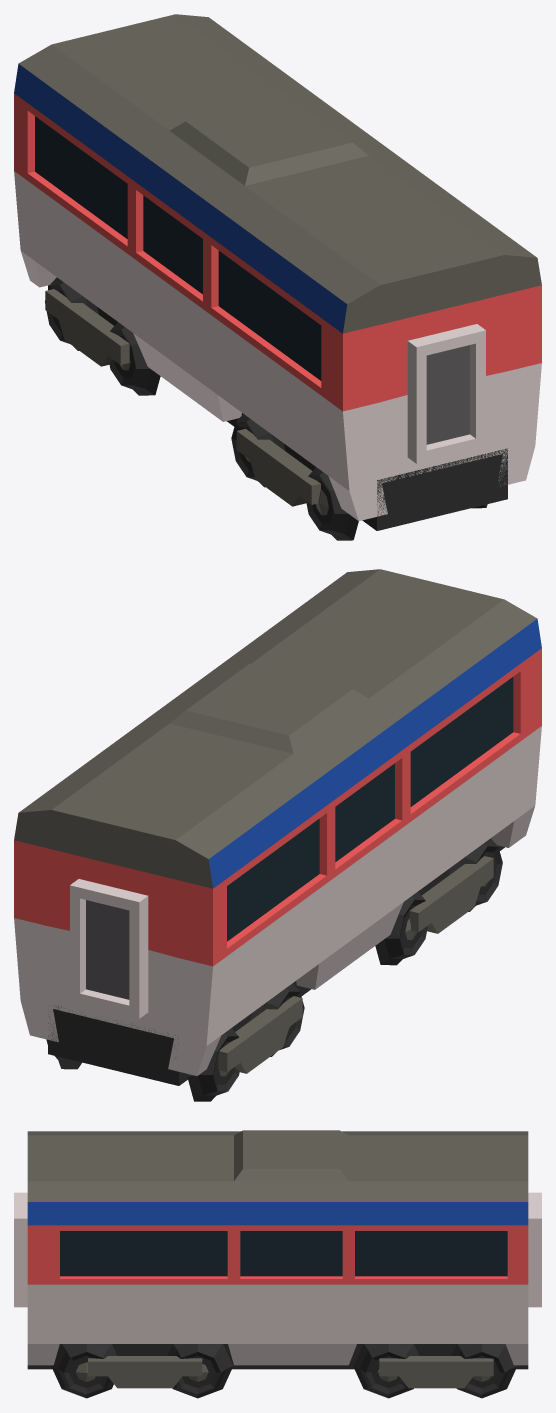
File: TrainBody.fbx
3 views of the same model, one above another, from view 1: azimuth 30°, elevation 25°; view 2: azimuth 150°, elevation 25°; view 3: azimuth 270°, elevation 25° (orthographic). The views are drawn at different scales.
Visible parts, largest first — view 1: Train_Passenger_Upper, Train_Wheel, Train_Wheel3, Wheel; view 2: Train_Passenger_Upper, Train_Wheel3, Train_Wheel, Wheel; view 3: Train_Passenger_Upper, Wheel, Train_Wheel3, Train_Wheel.
Part boxes in pixels (left/top/right/bottom): Train_Passenger_Upper: left=14, top=14, right=541, bottom=520; Train_Wheel: left=48, top=285, right=507, bottom=530; Train_Wheel3: left=45, top=289, right=320, bottom=506; Wheel: left=45, top=277, right=487, bottom=540; Train_Passenger_Upper: left=14, top=569, right=541, bottom=1075; Train_Wheel3: left=218, top=856, right=493, bottom=1073; Train_Wheel: left=48, top=845, right=504, bottom=1085; Wheel: left=46, top=838, right=502, bottom=1101; Train_Passenger_Upper: left=14, top=1130, right=541, bottom=1365; Wheel: left=51, top=1344, right=517, bottom=1398; Train_Wheel3: left=88, top=1356, right=493, bottom=1388; Train_Wheel: left=27, top=1344, right=528, bottom=1369.
Size of the model in its own units: 330 by 996 by 466.
